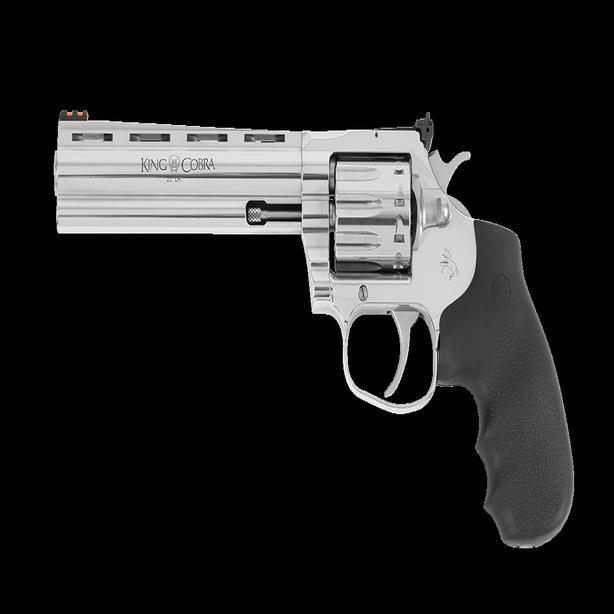Firearm: (25, 74, 592, 566)
